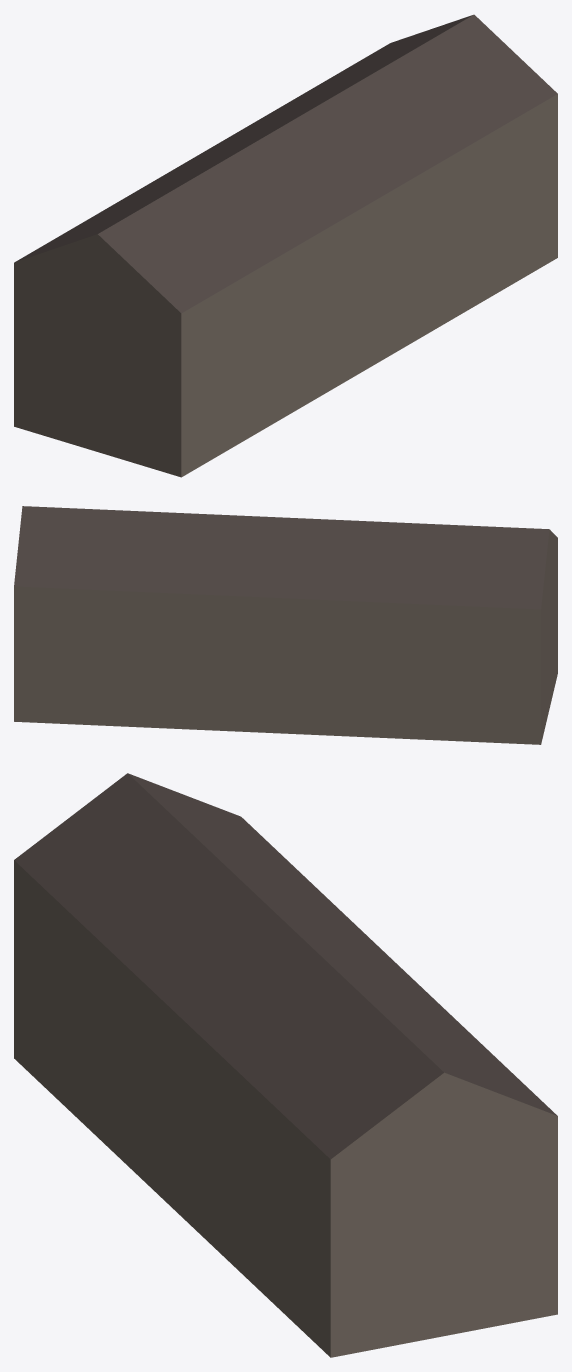
3 views of the same model, one above another, from view 1: azimuth 30°, elevation 25°; view 2: azimuth 150°, elevation 25°; view 3: azimuth 270°, elevation 25° (orthographic). The views are drawn at different scales.
Parts seen in each view (by area): view 1: HP-w369342572; view 2: HP-w369342572; view 3: HP-w369342572.
Boxes of the visible parts, box(x1,y1,x2,y2) form: HP-w369342572: box(14, 14, 557, 477); HP-w369342572: box(14, 506, 557, 744); HP-w369342572: box(14, 773, 557, 1357).
Bounding box in the file's own units: 33.37 × 11.96 × 22.37.
